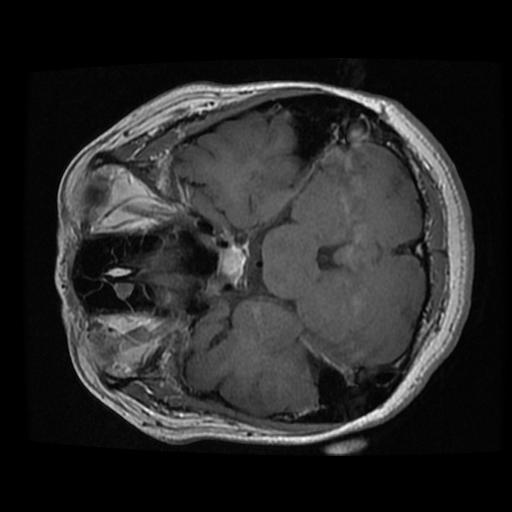pituitary tumour: (220, 245, 243, 281)
